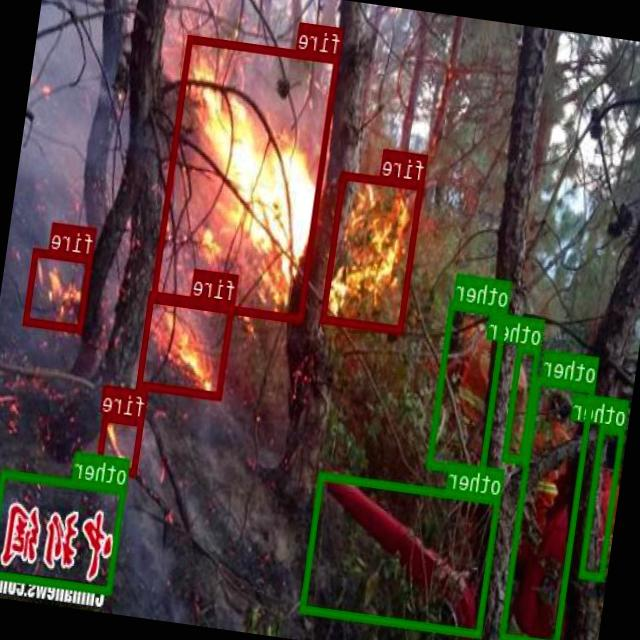fire: (152, 34, 342, 323), (322, 170, 425, 332), (137, 289, 235, 399), (24, 248, 94, 332), (97, 413, 145, 476)
